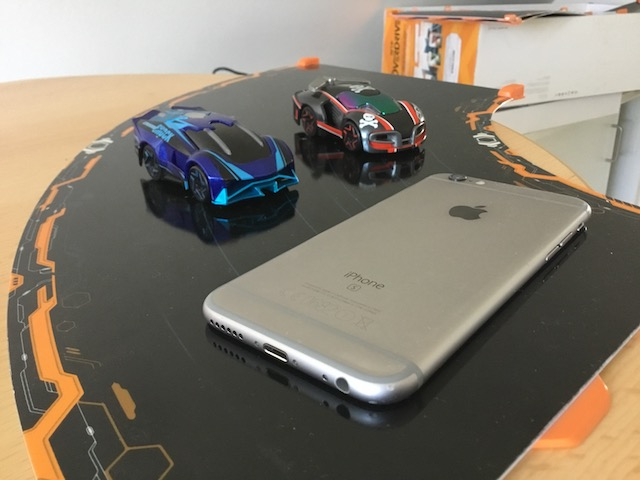car-blue: (128, 99, 304, 209)
car-red: (289, 71, 430, 159)
phone: (198, 167, 595, 409)
